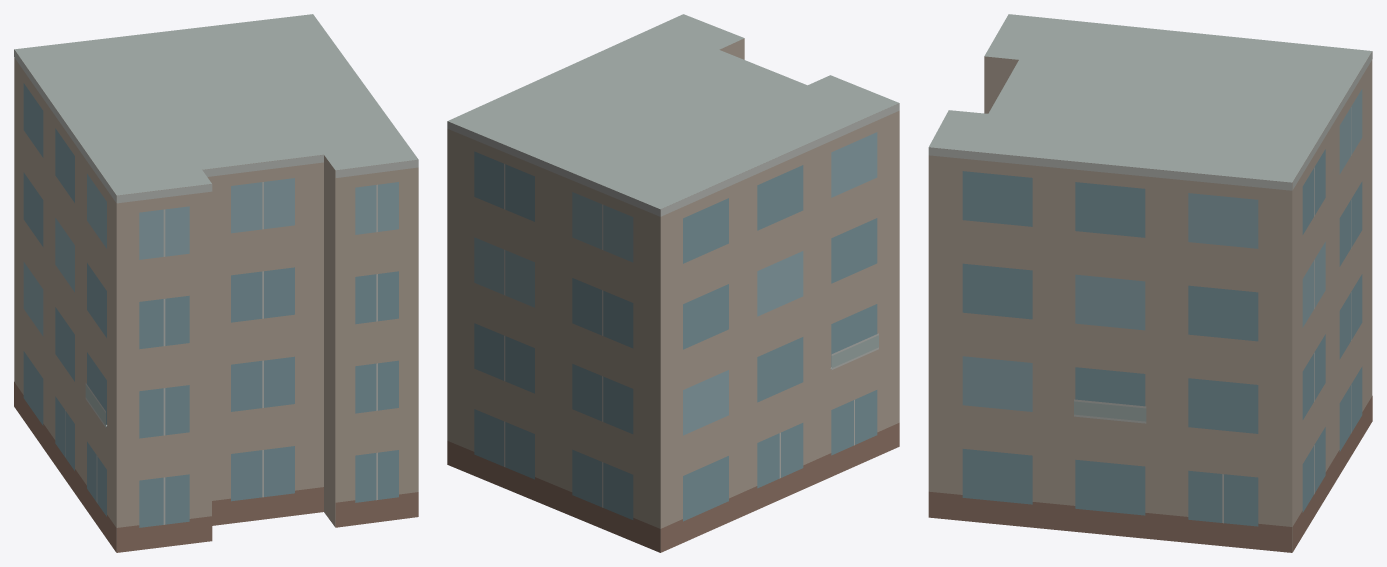
Rendered from survey-upis-32913082.glb.
3 renders of one model, left to right at view 1: azimuth 30°, elevation 25°; view 2: azimuth 150°, elevation 25°; view 3: azimuth 270°, elevation 25°, orthographic. The views are drawn at different scales.
Parts seen in each view (by area): view 1: survey-upis-32913082.tmp; view 2: survey-upis-32913082.tmp; view 3: survey-upis-32913082.tmp.
Boxes of the visible parts, x1,y1,x2,y2 form: survey-upis-32913082.tmp: [14, 14, 418, 552]; survey-upis-32913082.tmp: [447, 14, 899, 552]; survey-upis-32913082.tmp: [928, 14, 1372, 552].
Bounding box in the file's own units: 10.85 × 11.1 × 12.07.
